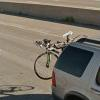Bicycle: (31, 31, 70, 78)
